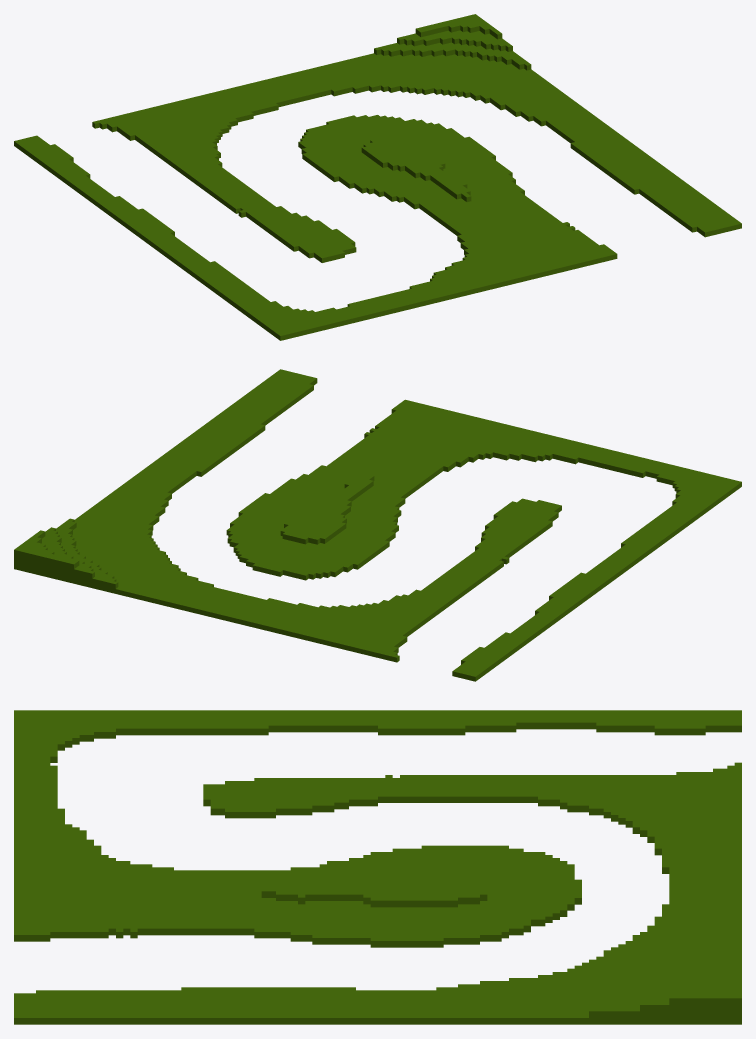
Rendered from Level_01_Grass_Route.obj.
3 views of the same model, one above another, from view 1: azimuth 30°, elevation 25°; view 2: azimuth 150°, elevation 25°; view 3: azimuth 270°, elevation 25° (orthographic). The views are drawn at different scales.
Size of the model in its own units: 100 by 4 by 100.
1 material, 1 textured.
